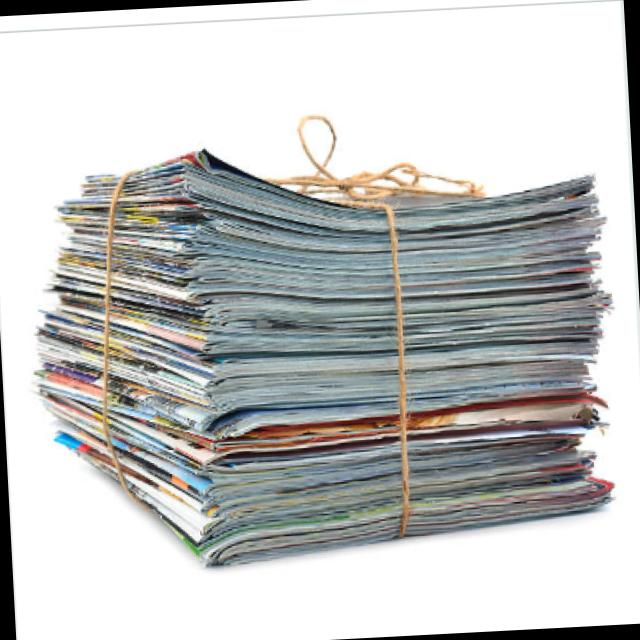Koran: (20, 99, 627, 576)
